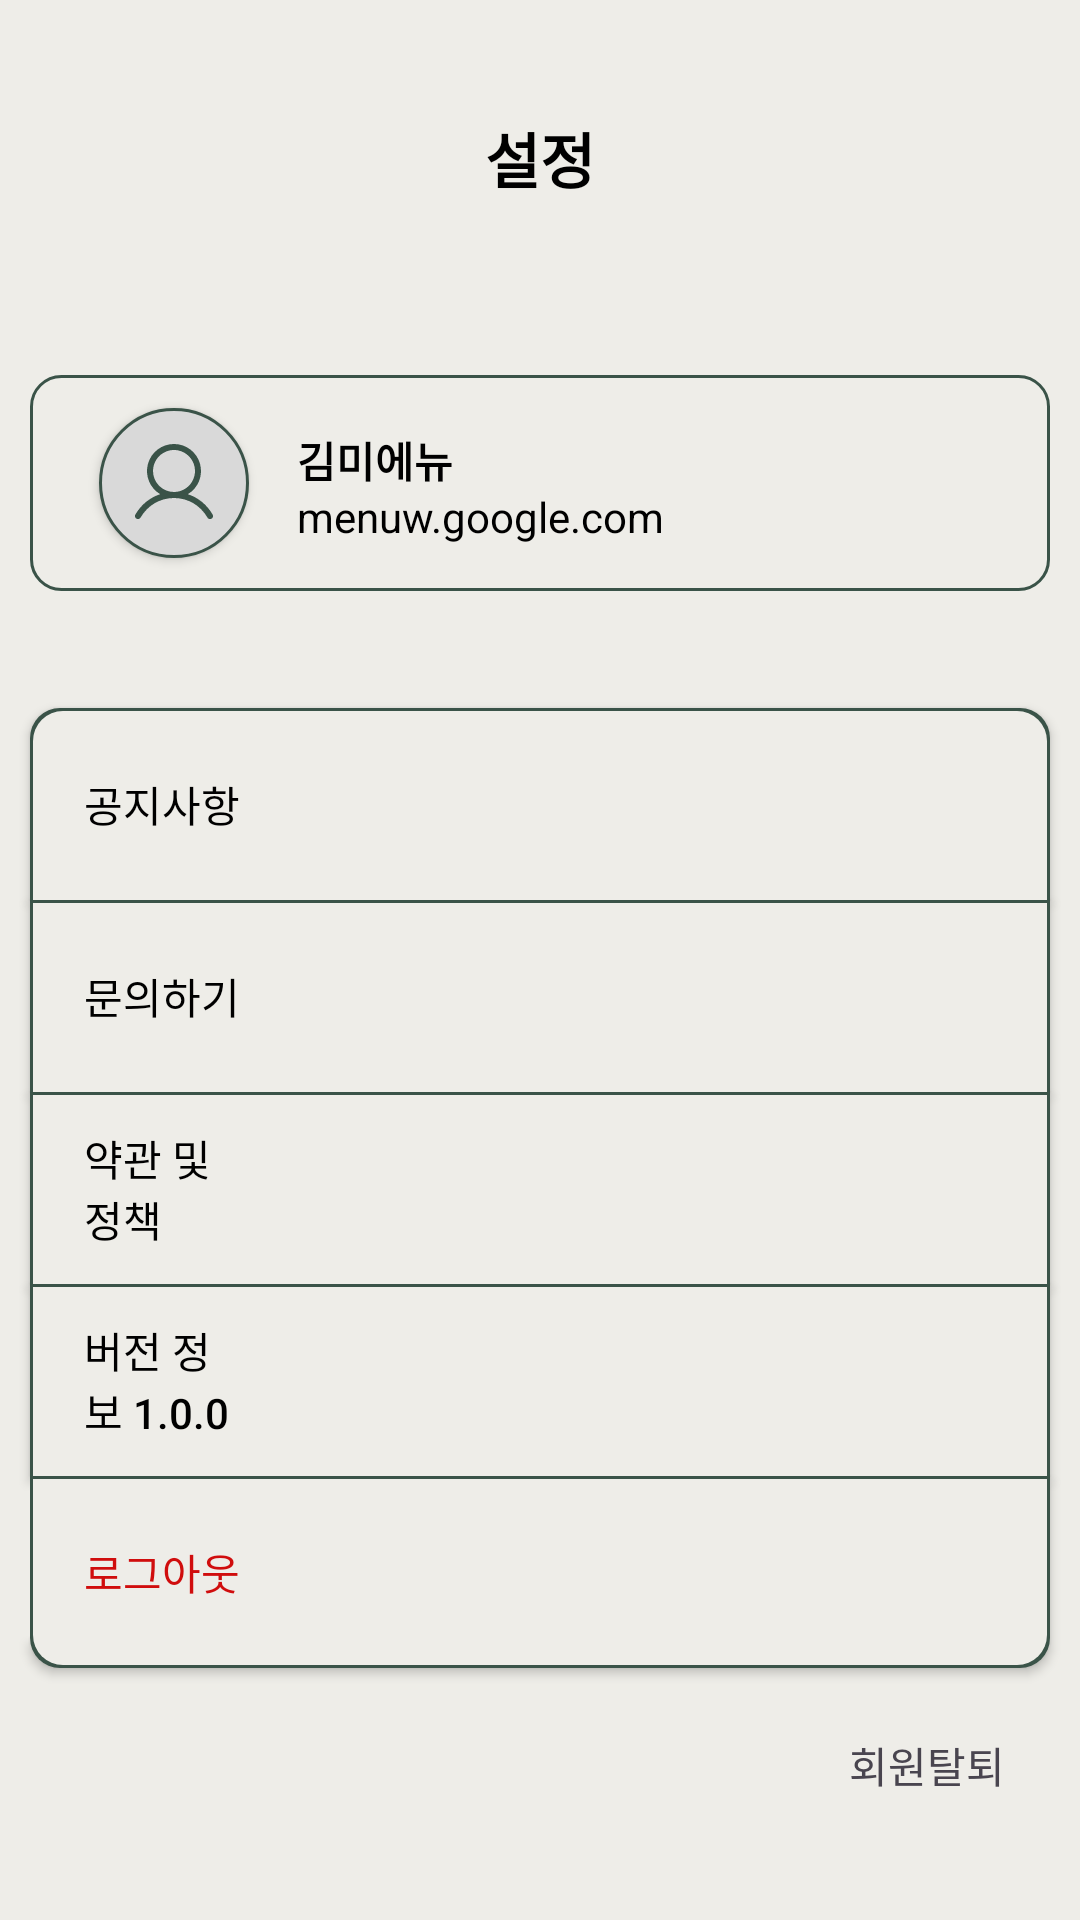

Locate icon controls on the screen. Image size 1080×1920, boxes as (x1, y1, x2, y2).
mypage info profile: (99, 408, 249, 558)
